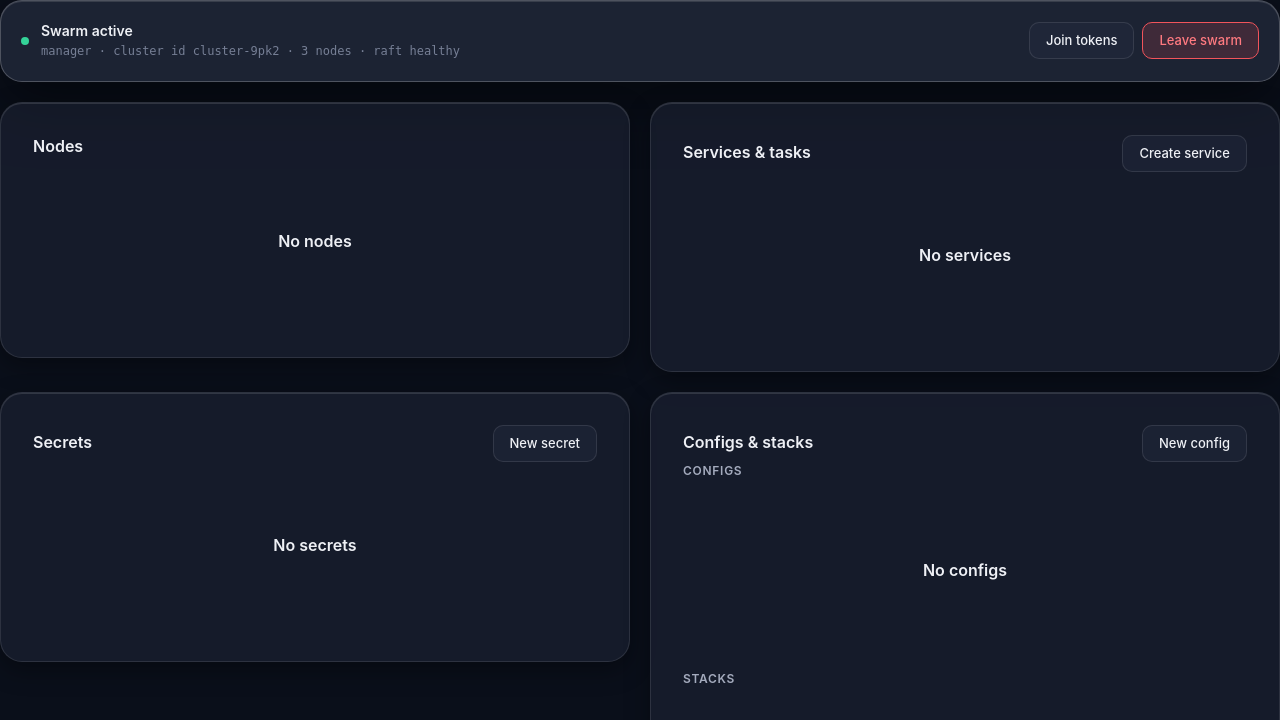
Test: SwarmScreen — the join tokens (swarm/specs/swarm-screen.md, REQ-80) › shows a token only after an explicit reveal
The width and height of the screenshot is (1280, 720).
Click the button "Join tokens": [1082, 41] box [1029,22,1134,59]
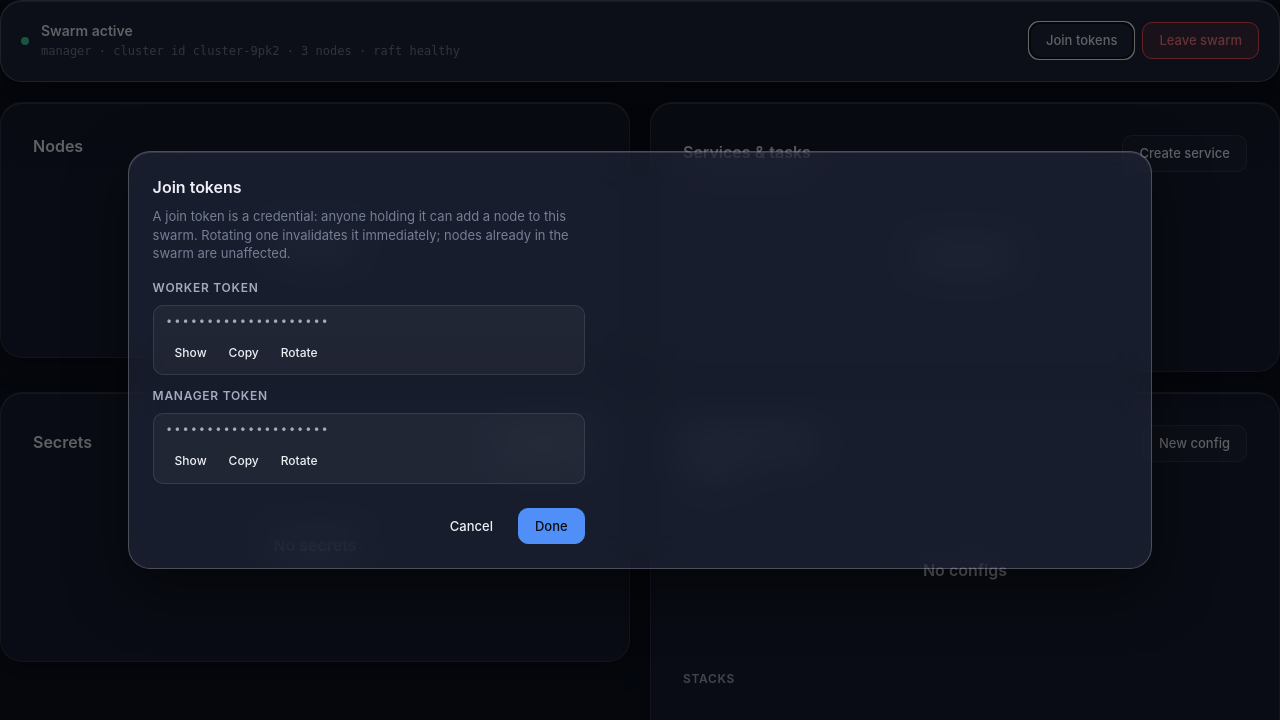
Click the button "Show" below "Worker token": [191, 353] box [166,339,216,366]
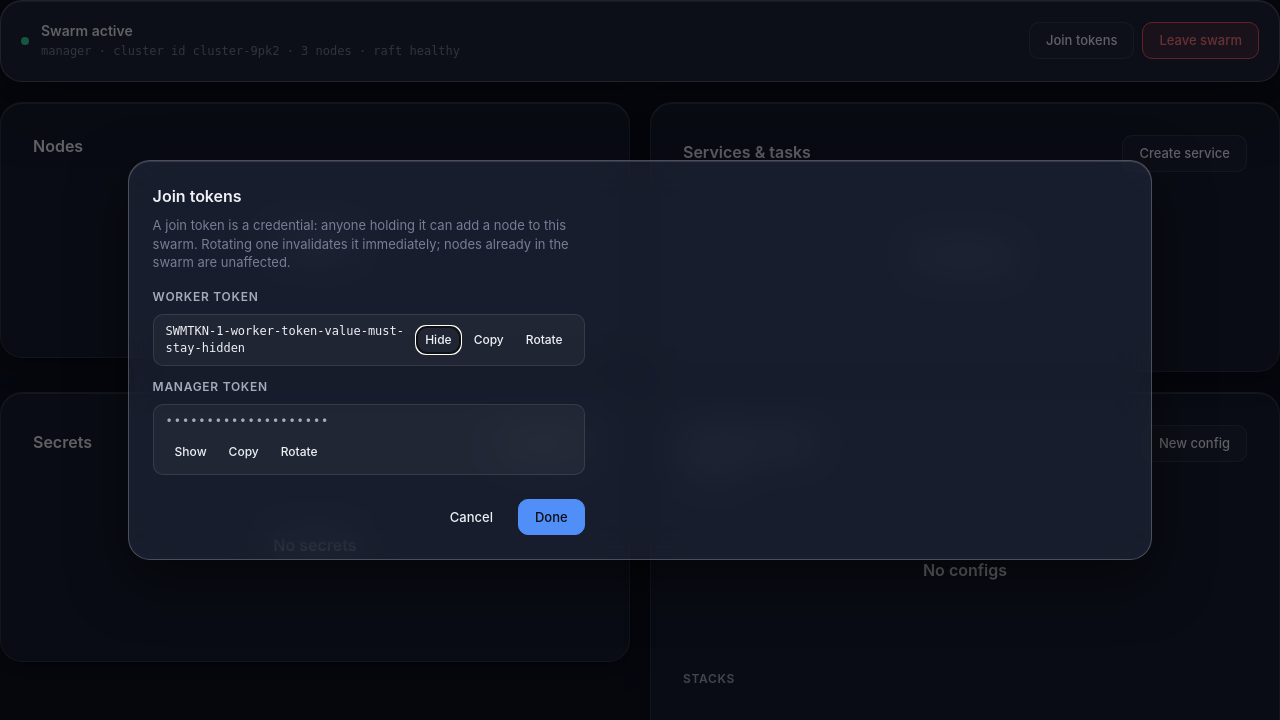
Result: the text "SWMTKN-1-worker-token-value-must-stay-hidden" is shown at [166,324,404,355]
